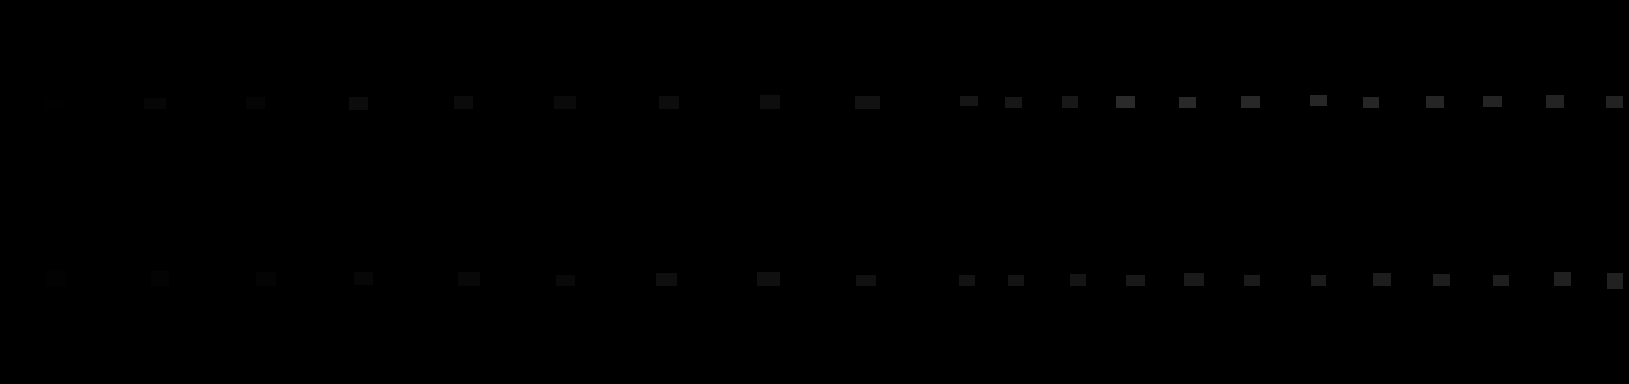light: (855, 95, 880, 109), (757, 272, 780, 286), (46, 271, 66, 286), (458, 272, 480, 286), (256, 272, 276, 286), (554, 95, 576, 109), (656, 273, 677, 286), (151, 271, 169, 286), (659, 95, 679, 109), (760, 95, 780, 109), (1184, 273, 1204, 286), (354, 272, 373, 285), (454, 95, 473, 109), (349, 97, 368, 110), (144, 98, 166, 109), (45, 98, 64, 110), (1607, 273, 1623, 289), (1554, 272, 1571, 286), (1373, 273, 1391, 286), (246, 97, 265, 109), (1241, 95, 1260, 108), (1116, 95, 1134, 108), (856, 275, 876, 286), (1483, 95, 1502, 107), (1433, 274, 1450, 286), (1546, 95, 1564, 108), (1426, 95, 1444, 108), (556, 275, 575, 286), (1126, 275, 1145, 286), (1062, 95, 1078, 108), (1606, 95, 1623, 108), (1005, 97, 1022, 108), (1070, 274, 1086, 286), (1008, 275, 1024, 286), (1244, 275, 1260, 286), (1179, 97, 1196, 108), (960, 95, 978, 106), (959, 275, 974, 286), (1493, 275, 1508, 286), (1363, 97, 1379, 108), (1310, 95, 1327, 106), (1311, 275, 1326, 286)
